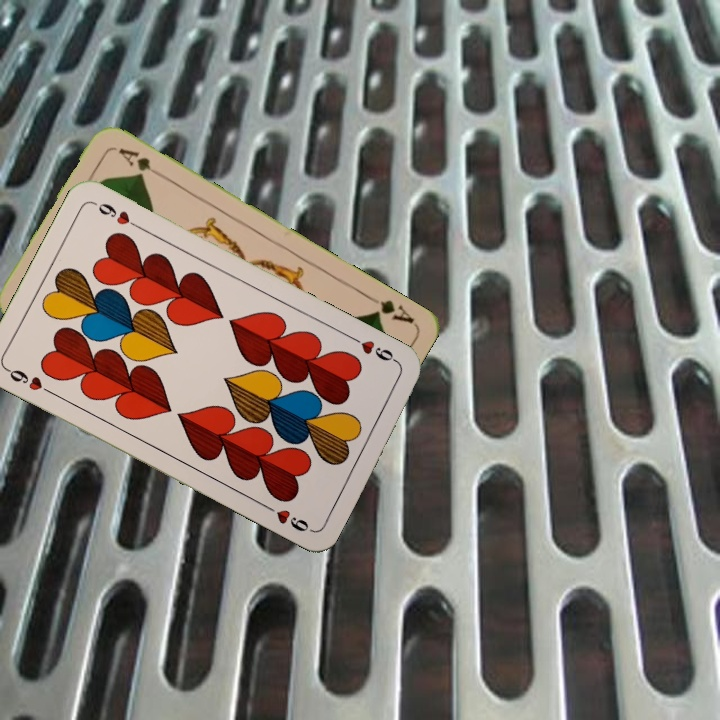GA: (362, 291, 417, 327)
H9: (2, 364, 57, 398), (347, 332, 402, 366)
